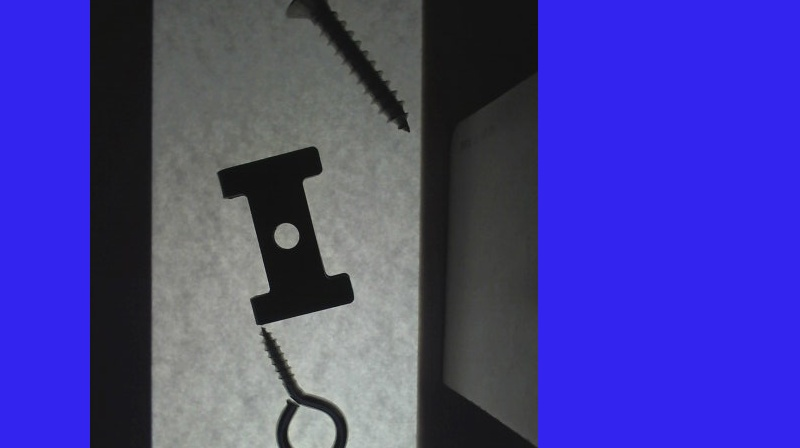O001: (256, 324, 348, 447)
O002: (215, 146, 355, 326)
S001: (282, 0, 412, 134)
